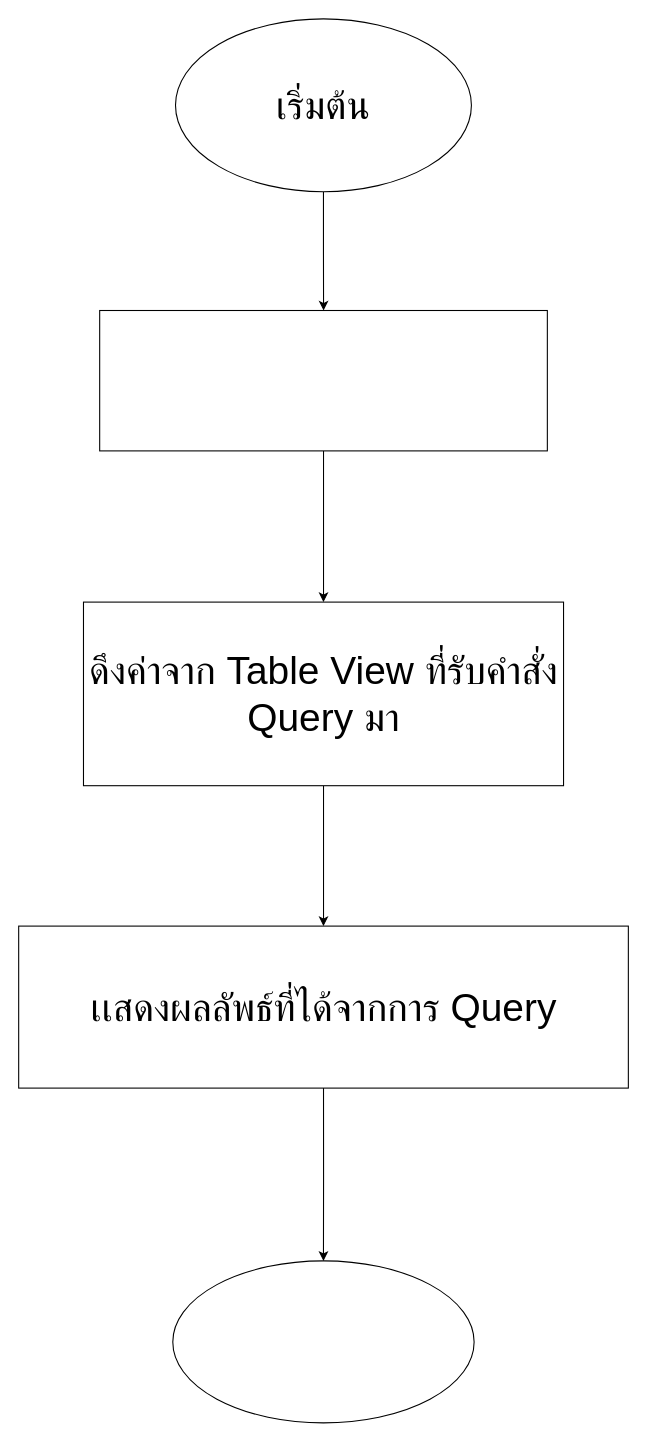
Image size: 648x1442. Some labels were removed from this diagram. Each missing label, with the centre of its shape:
รับค่า Query จาก User: point (323, 380)
สิ้นสุด: point (323, 1341)
